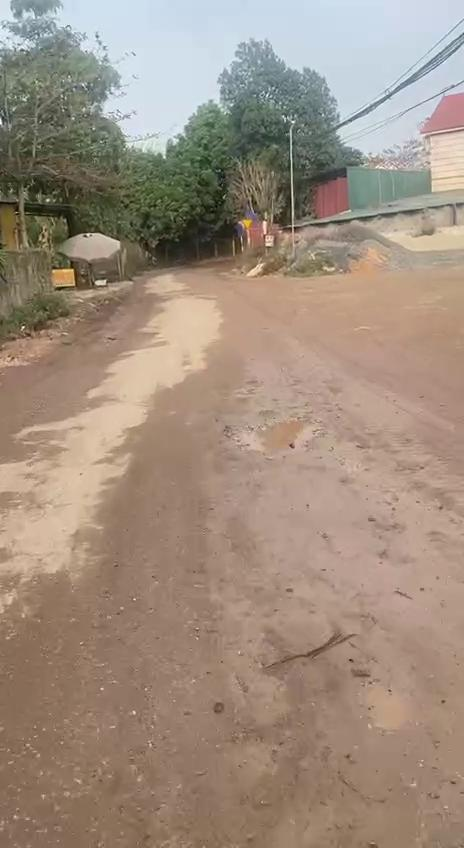pothole: (221, 409, 323, 458)
